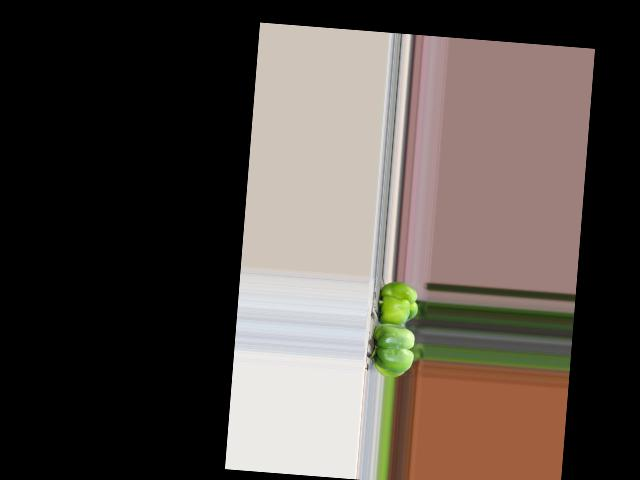bell_pepper: (374, 278, 421, 327)
